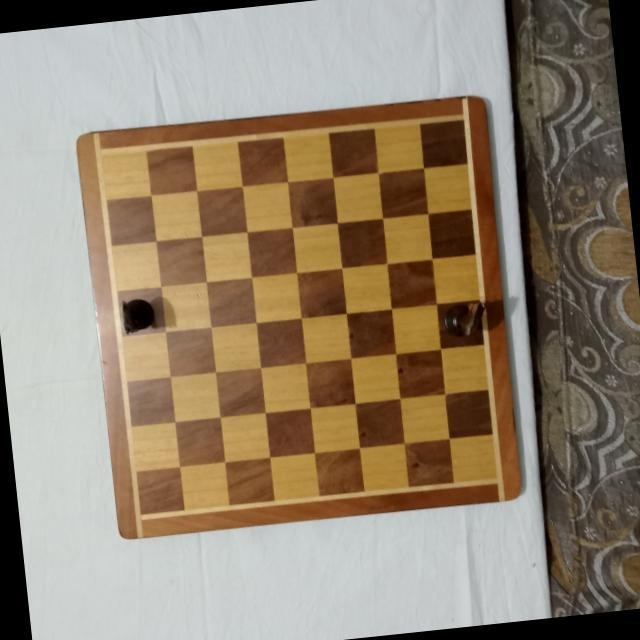black-knight: (436, 296, 491, 340), (116, 292, 160, 340)
